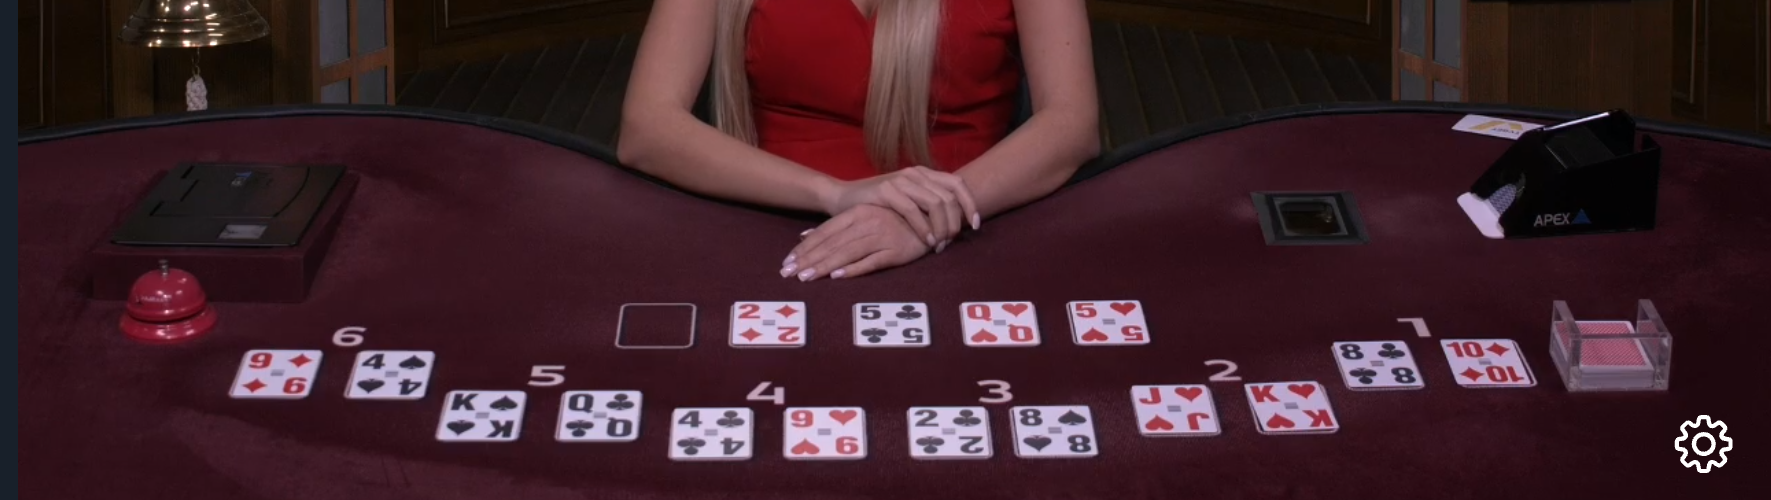10d: (1437, 334, 1537, 391)
2c: (905, 401, 1000, 464)
2d: (730, 296, 809, 350)
4c: (668, 403, 758, 460)
4s: (352, 339, 428, 407)
5c: (853, 300, 936, 352)
5h: (1066, 293, 1153, 347)
8c: (1331, 336, 1431, 391)
8s: (1005, 401, 1103, 462)
9d: (228, 335, 321, 403)
9h: (789, 407, 867, 462)
jh: (1133, 381, 1223, 439)
kh: (1244, 380, 1341, 436)
ks: (431, 388, 532, 447)
qc: (558, 383, 645, 446)
qh: (956, 300, 1052, 352)
